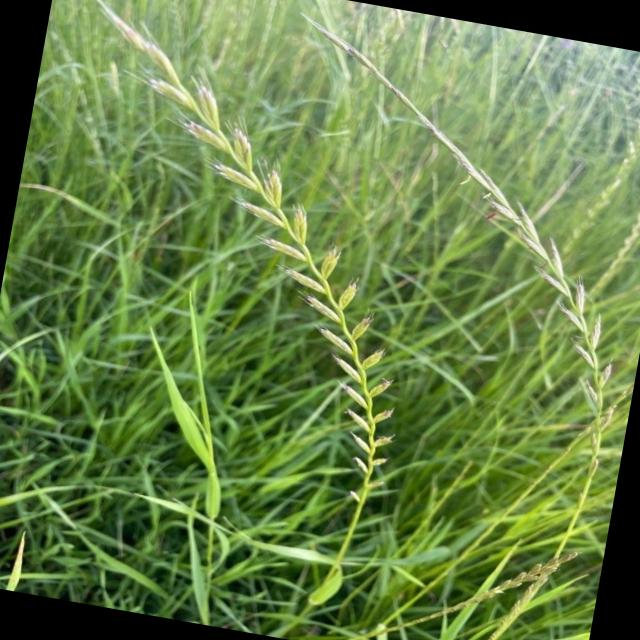Lolium: (0, 0, 448, 621), (198, 18, 640, 640)
